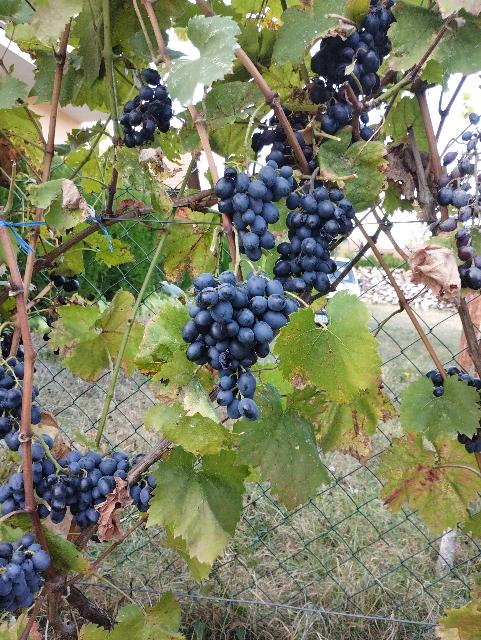grapes: (181, 271, 299, 421), (31, 434, 130, 529), (274, 185, 356, 294), (215, 160, 295, 261)
